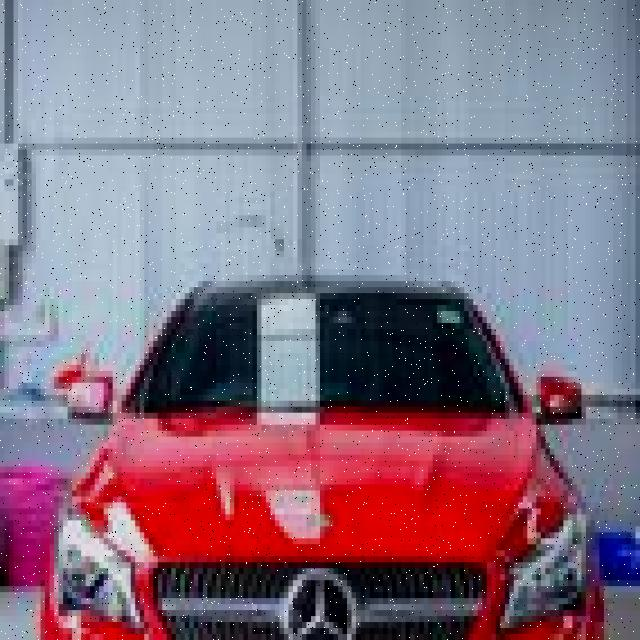car: (49, 263, 608, 640)
